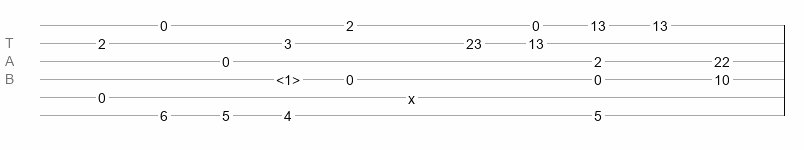0: (98, 90, 106, 100), (160, 18, 168, 28), (222, 54, 230, 64), (346, 72, 354, 82), (532, 18, 540, 28), (594, 72, 602, 82)
10: (714, 72, 730, 82)
13: (528, 36, 544, 46), (590, 18, 606, 28), (652, 18, 668, 28)
2: (98, 36, 106, 46), (346, 18, 354, 28), (594, 54, 602, 64)
22: (714, 54, 730, 64)
23: (466, 36, 482, 46)
3: (284, 36, 292, 46)
4: (284, 108, 292, 118)
5: (222, 108, 230, 118), (594, 108, 602, 118)
6: (160, 108, 168, 118)
harmonic: (276, 72, 300, 82)
x: (408, 91, 415, 99)
